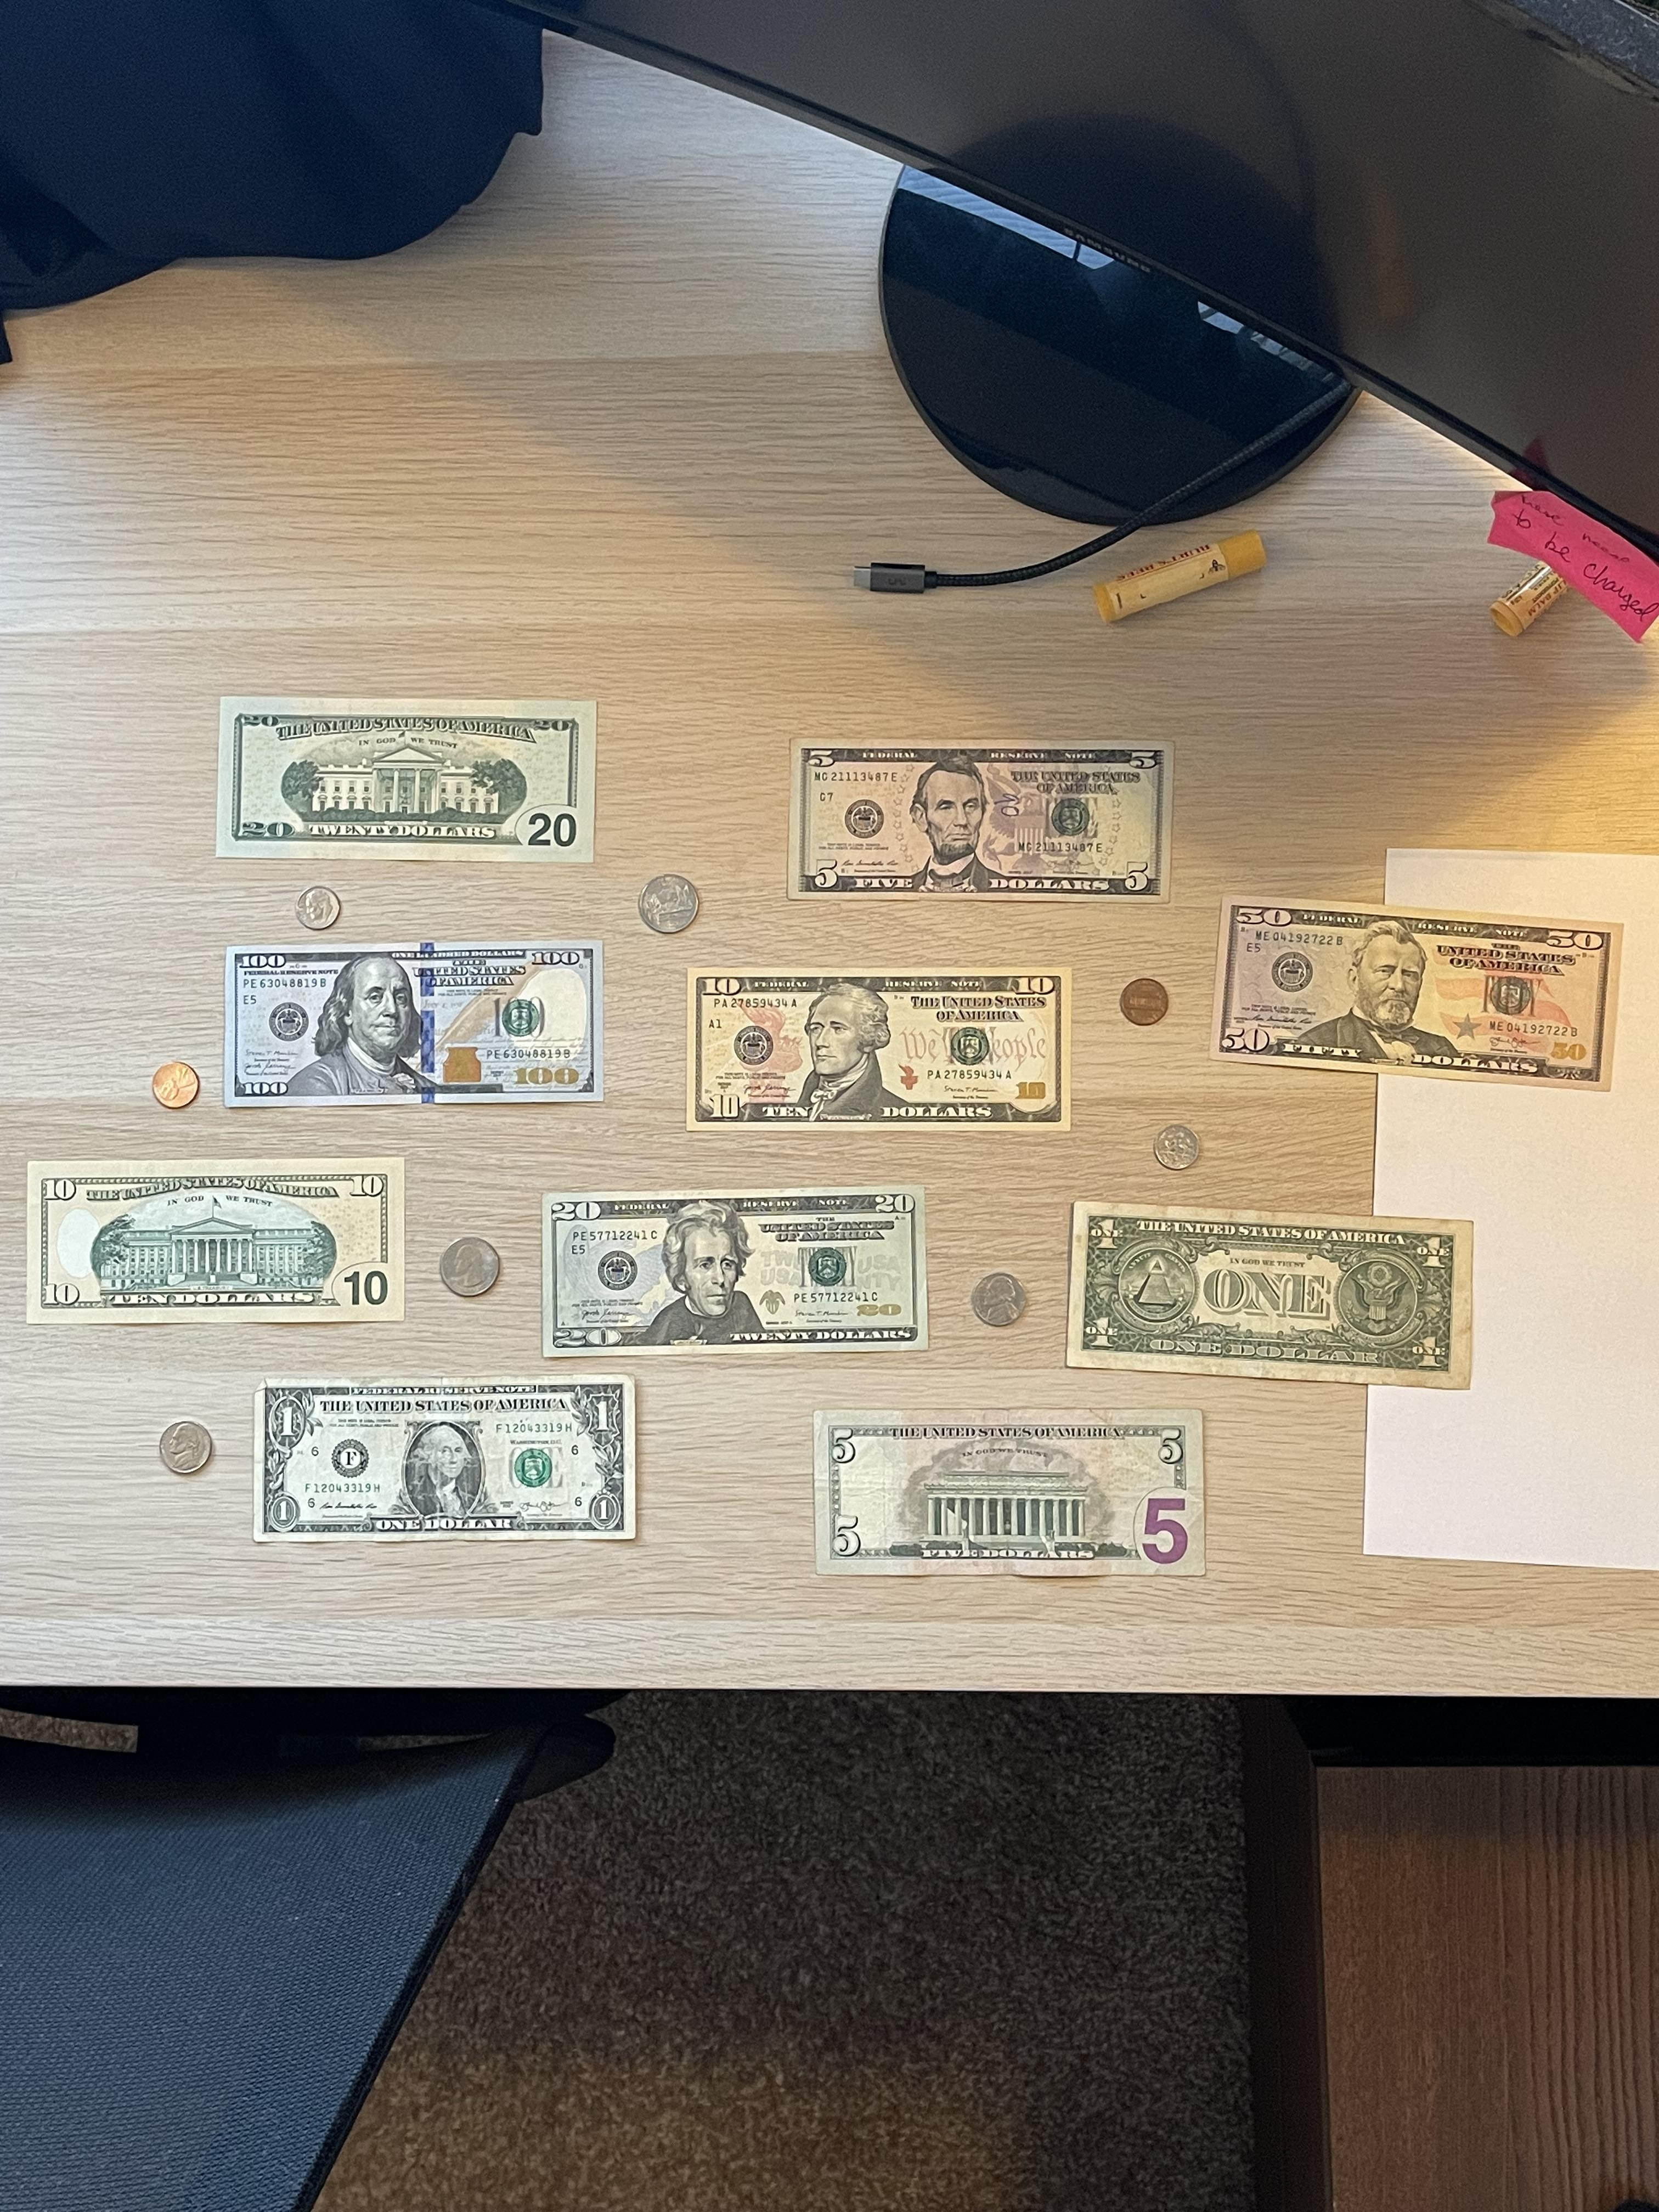Dime: (1152, 1123, 1201, 1170), (295, 885, 342, 930)
FiftyBill: (1208, 892, 1624, 1094)
FiveBill: (812, 1406, 1206, 1578), (786, 737, 1176, 906)
HundredBill: (223, 939, 605, 1109)
Nickel: (971, 1271, 1026, 1327), (160, 1420, 213, 1475)
OneBill: (1063, 1200, 1474, 1392), (251, 1371, 638, 1545)
Penny: (1119, 977, 1169, 1028), (152, 1061, 199, 1109)
Quarter: (638, 873, 699, 935), (439, 1237, 500, 1299)
TenBill: (685, 965, 1072, 1134), (24, 1157, 406, 1325)
TwentyBill: (540, 1183, 929, 1359), (214, 693, 598, 864)
